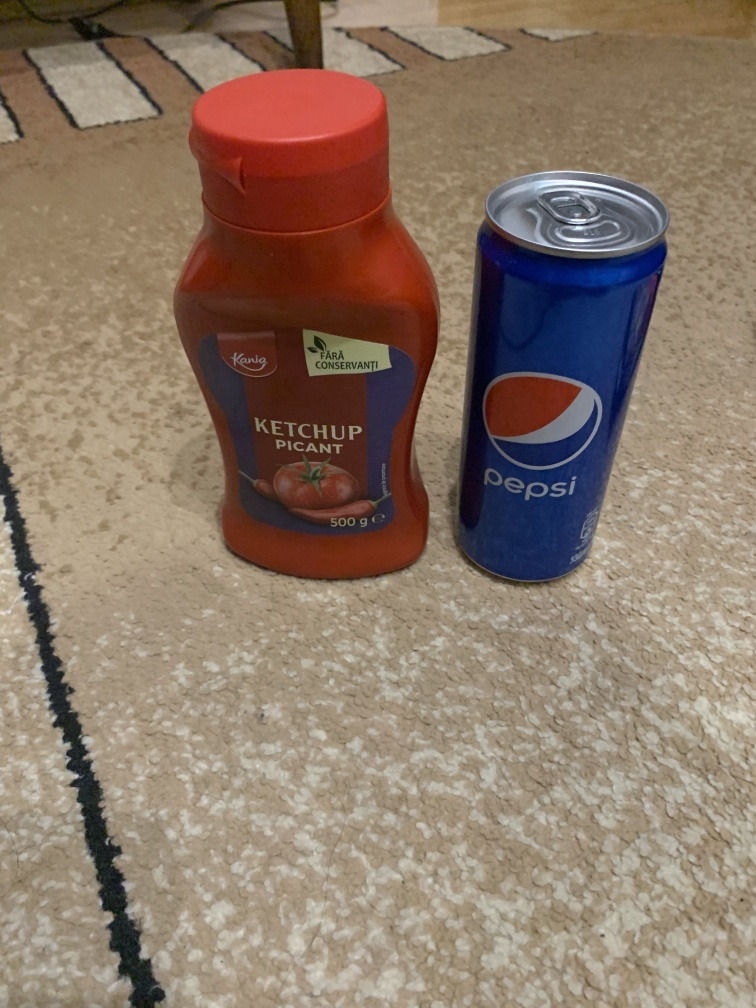ketchup: (170, 62, 444, 594)
pepsi: (452, 168, 673, 613)
